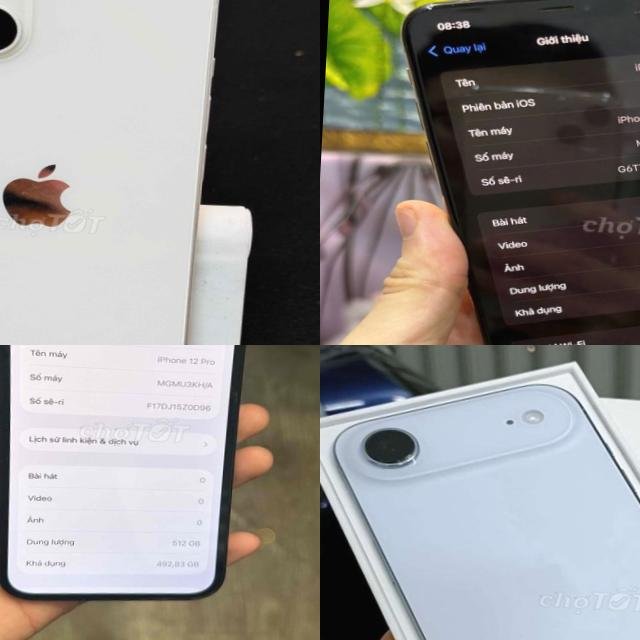scratch: (400, 0, 457, 26)
